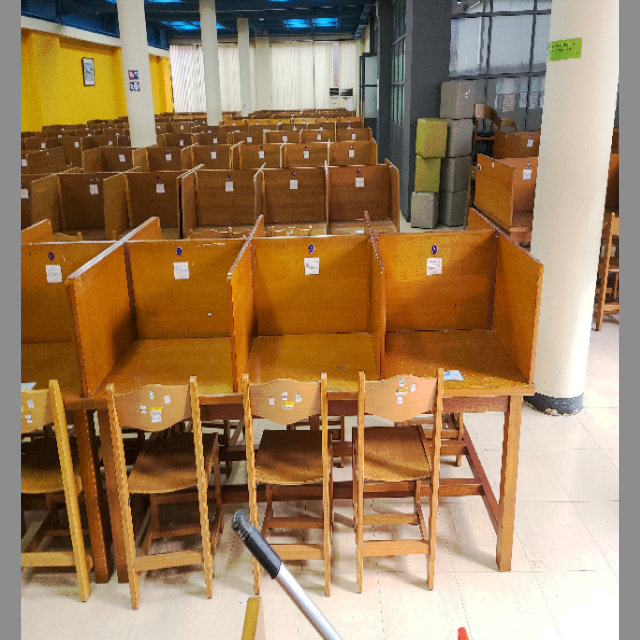empty: (386, 227, 535, 459), (74, 241, 234, 448), (239, 237, 383, 465)
